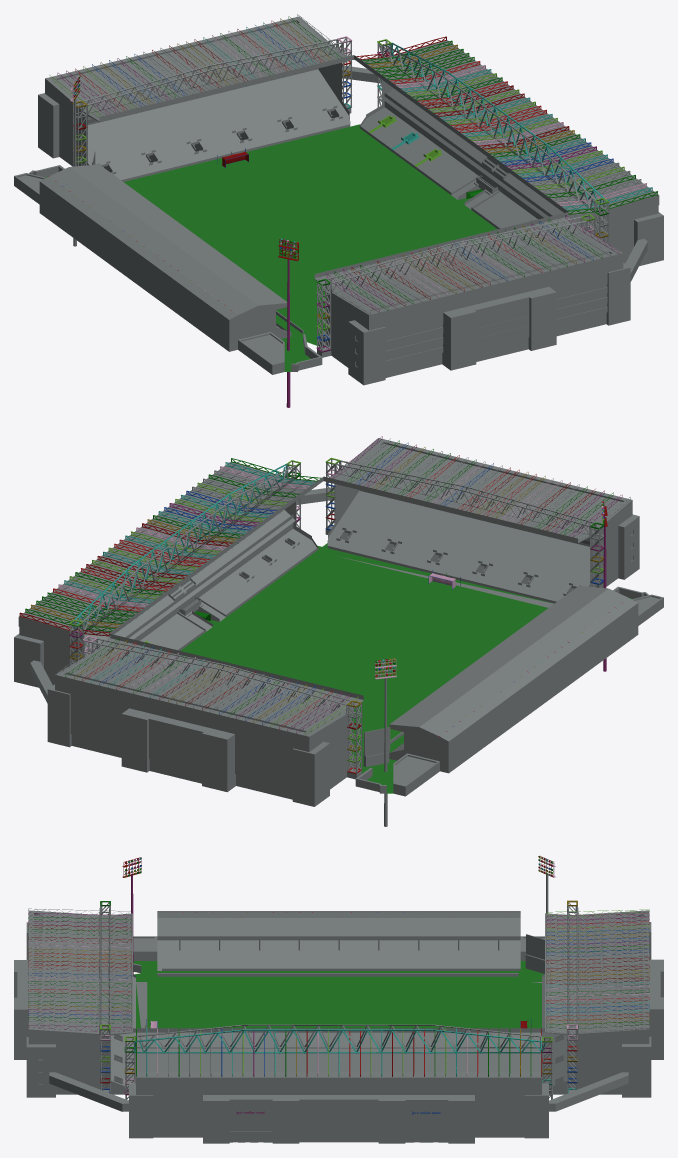
File: Stadium.obj
3 renders of one model, top to bottom at view 1: azimuth 30°, elevation 25°; view 2: azimuth 150°, elevation 25°; view 3: azimuth 270°, elevation 25°, orthographic. The views are drawn at different scales.
Parts seen in each view (by area): view 1: Layer0_001, Component_12_001, Component_12_003; view 2: Layer0_001, Component_12_001, Component_12_003; view 3: Layer0_001, Component_12_003, Component_12_001.
Part boxes in pixels (x1,y1,x2,y2): Layer0_001: (14, 16, 663, 385); Component_12_001: (380, 44, 595, 211); Component_12_003: (389, 42, 603, 209); Layer0_001: (14, 438, 663, 806); Component_12_001: (81, 465, 295, 633); Component_12_003: (72, 463, 287, 630); Layer0_001: (14, 901, 663, 1143); Component_12_003: (134, 1029, 545, 1053); Component_12_001: (134, 1024, 545, 1048).
Size of the model in its own units: 13.59 by 5.07 by 18.49.
11 materials, 11 textured.
